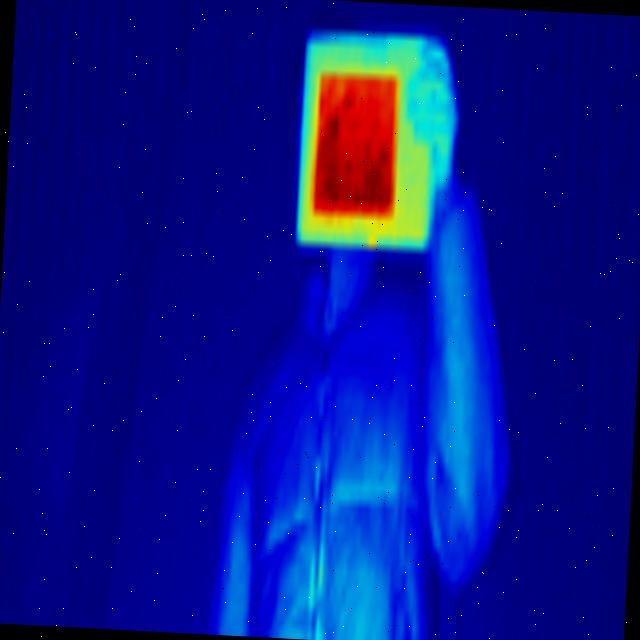rectangle: (286, 30, 456, 256)
